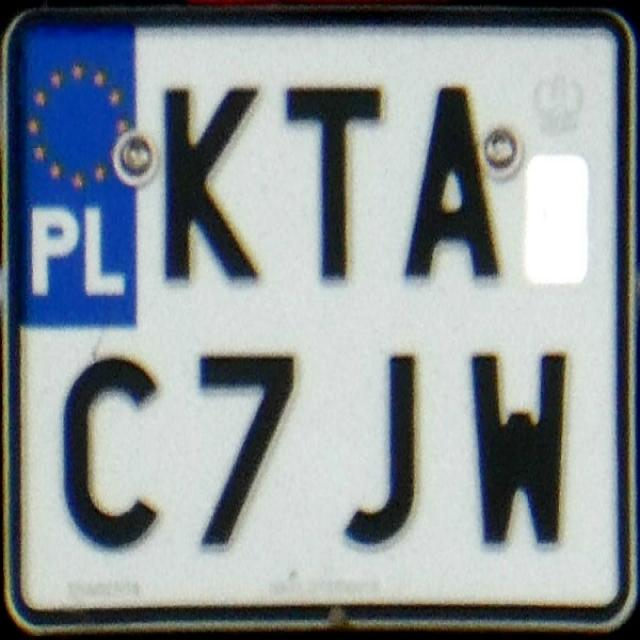pl_license_plate: (22, 20, 614, 601)
